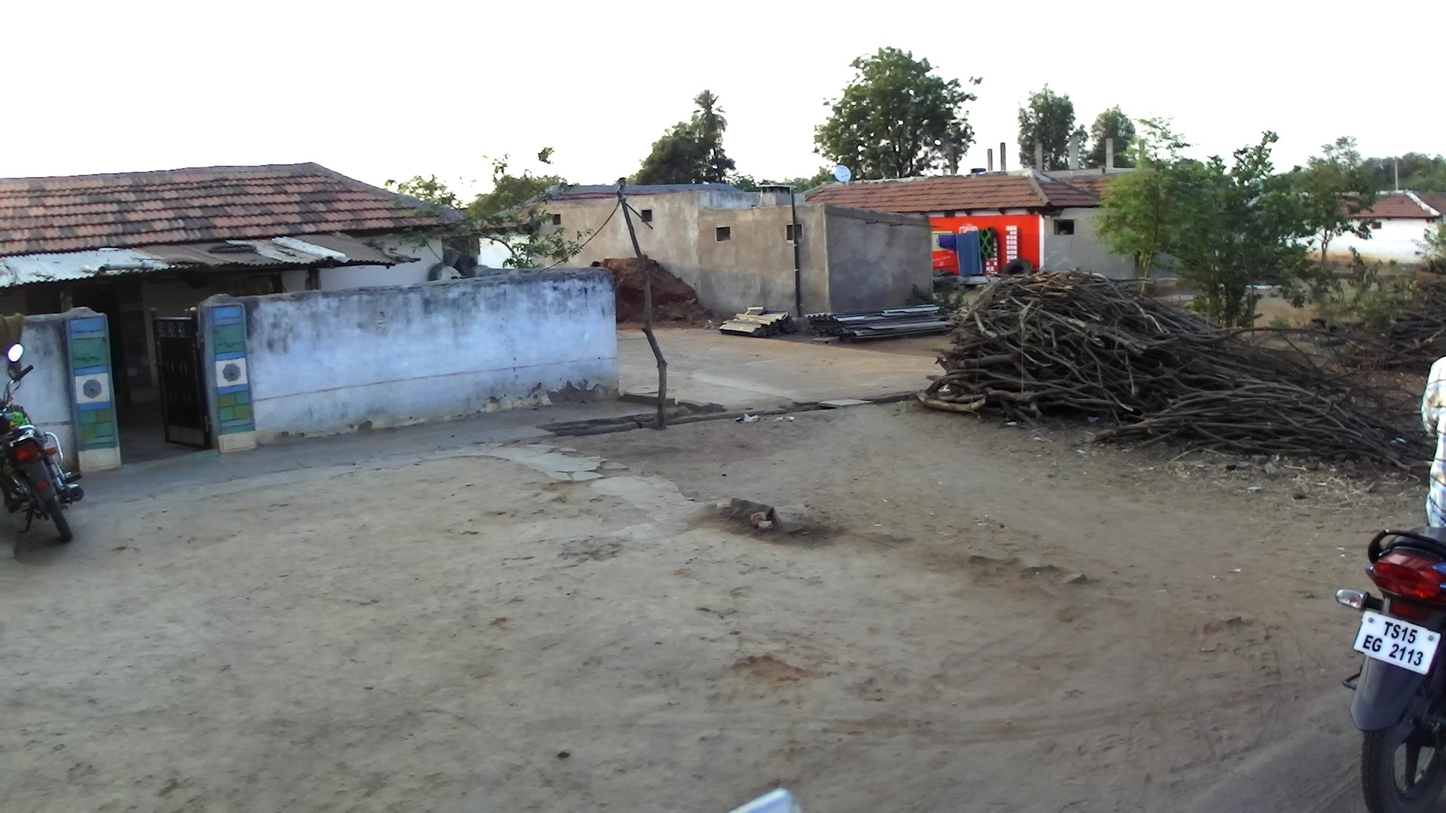motorcycle: (1332, 527, 1446, 813), (1, 343, 84, 542)
rider: (1420, 358, 1446, 530)
